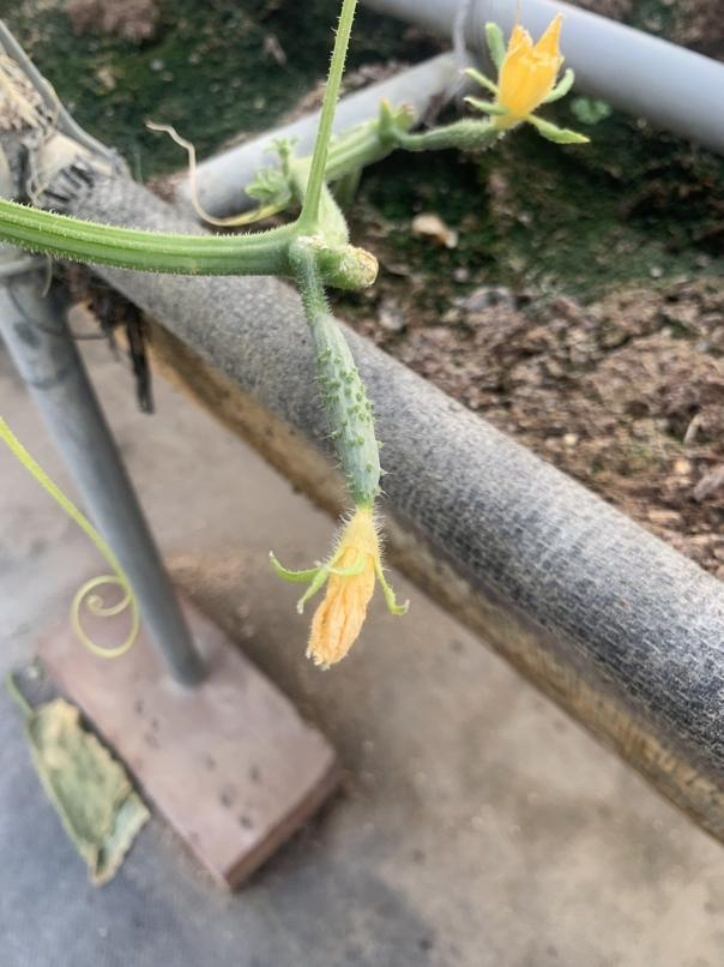bear: (274, 283, 414, 673), (413, 9, 584, 163)
